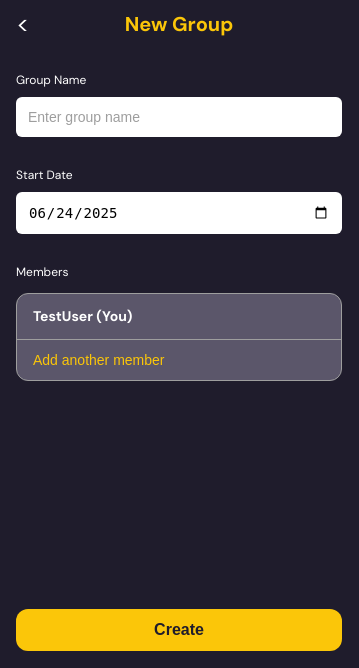
NewGroupPage › prevents adding a duplicate member
Click the button "Add another member" at x=99, y=360, box [17,340,341,380]
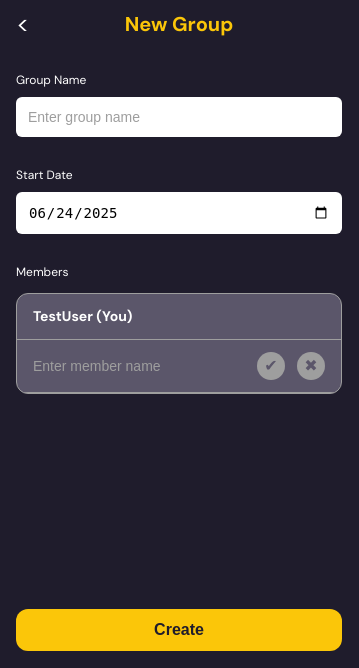
Type "TestUser" into the field with placeholder "Enter member name" at x=145, y=366, box [33,358,257,374]
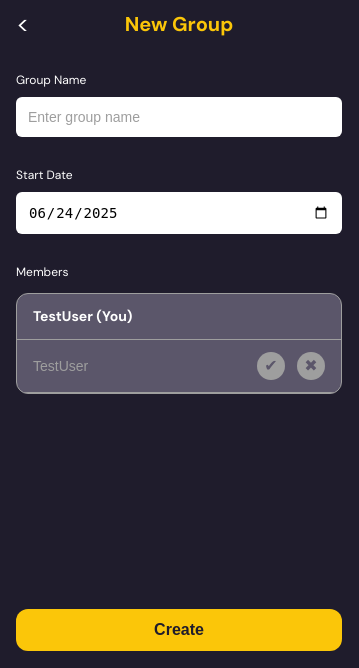
Click the button "✔" at x=271, y=366, box [257,352,285,380]
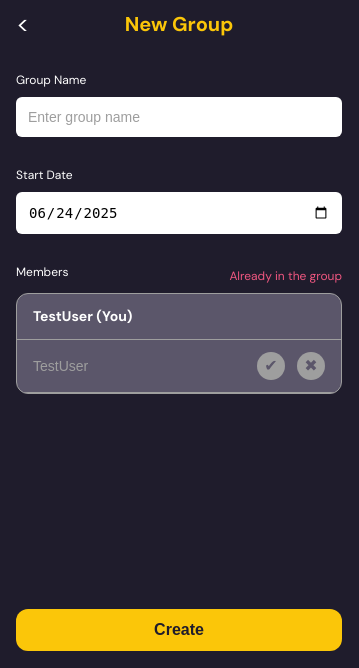
Result: the text "Already in the group" is shown at [229,267,342,285]
